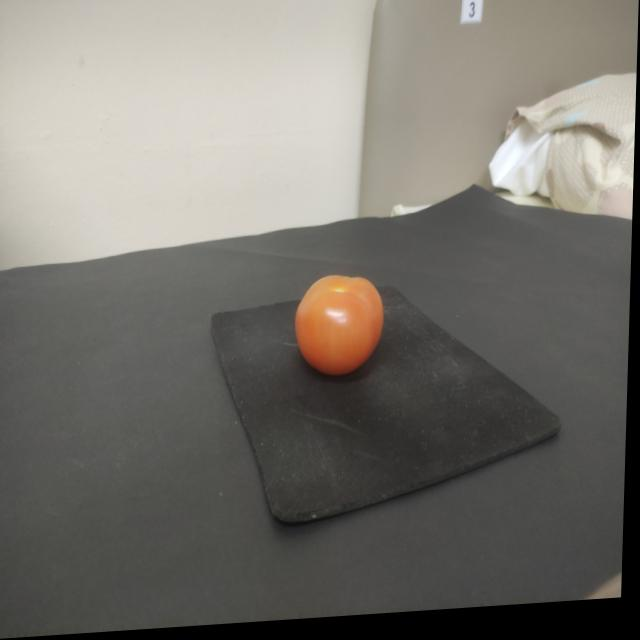sari: (284, 261, 396, 392)
